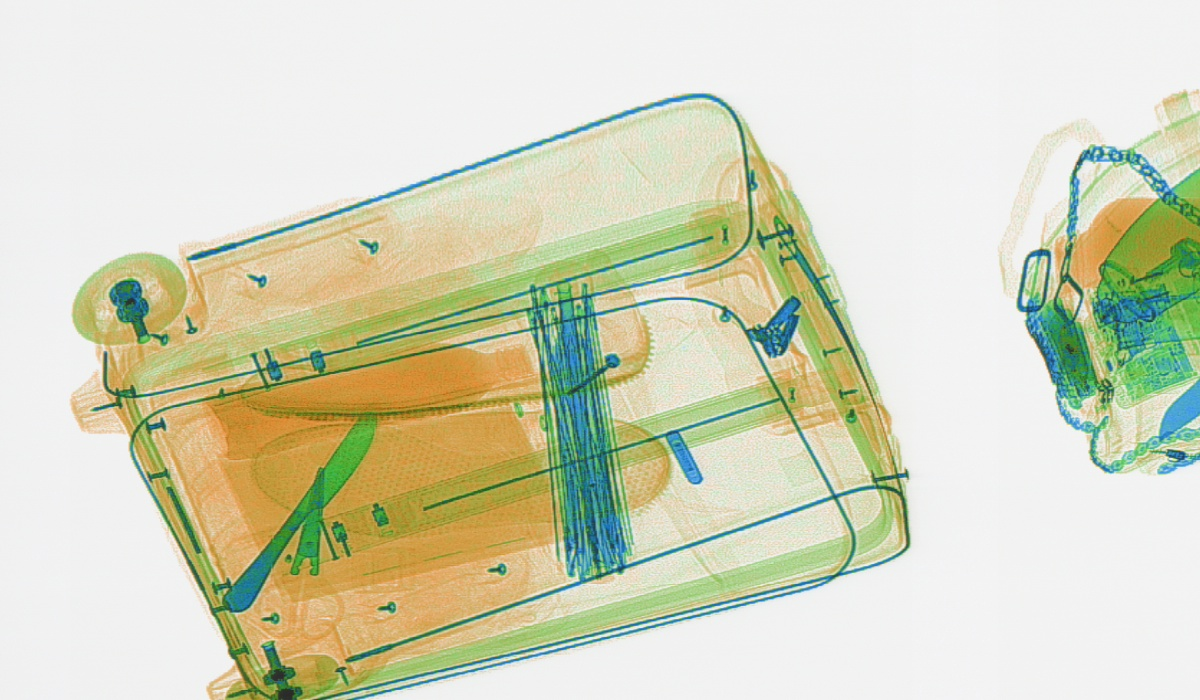knife: (221, 410, 377, 613)
scissors: (253, 466, 346, 640)
